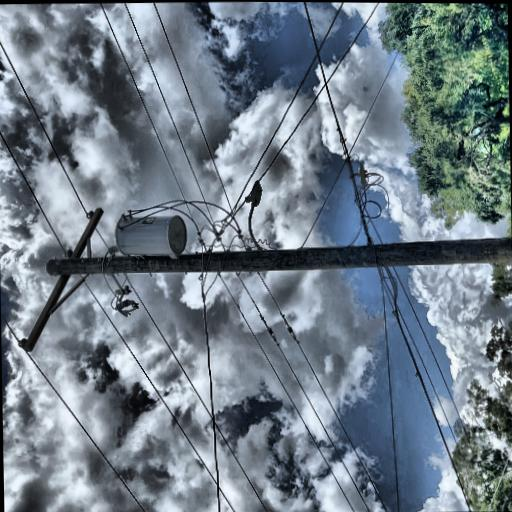insulator: (34, 161, 46, 174), (149, 237, 160, 250), (116, 213, 126, 225)
pole: (96, 196, 145, 512)
street light: (122, 416, 190, 439)
transformer: (118, 269, 157, 352)
